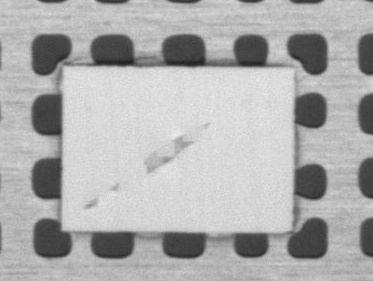DIE_INK: (147, 135, 192, 172), (83, 195, 100, 208), (106, 180, 120, 191), (201, 119, 212, 129)
